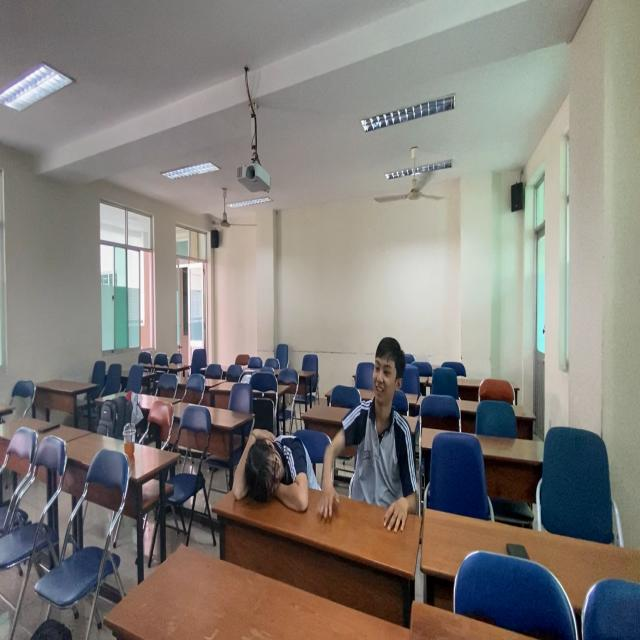sleep: (228, 411, 321, 528)
